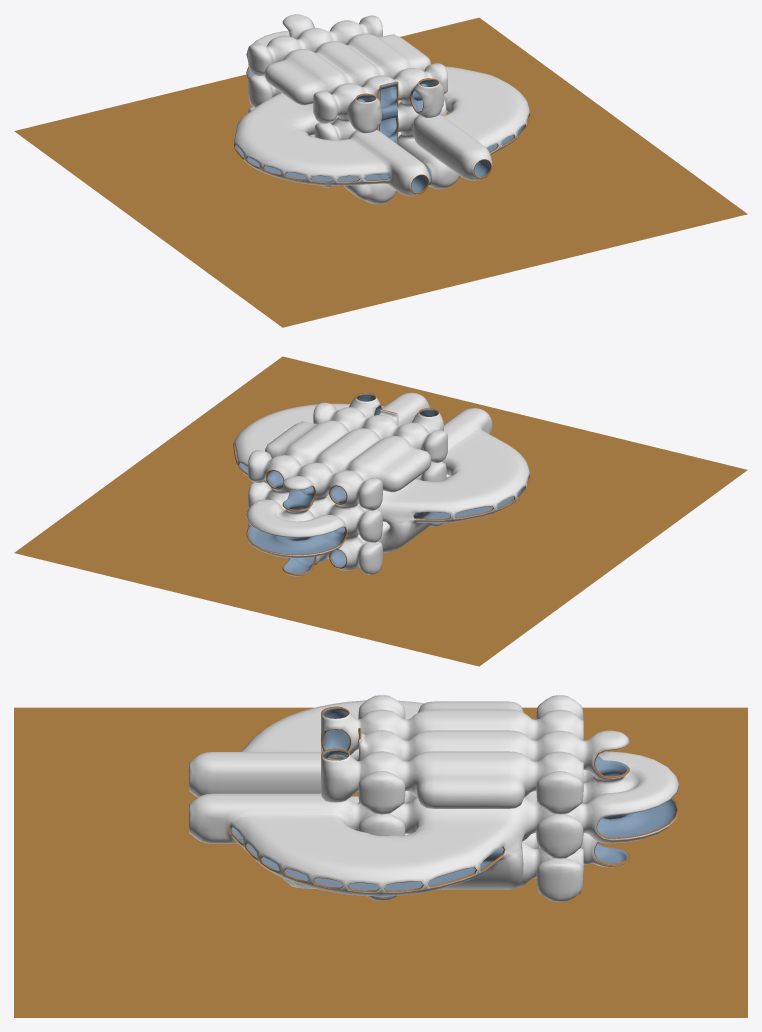
The model's file is spaceShip.glb.
3 views of the same model, one above another, from view 1: azimuth 30°, elevation 25°; view 2: azimuth 150°, elevation 25°; view 3: azimuth 270°, elevation 25° (orthographic). The views are drawn at different scales.
Parts seen in each view (by area): view 1: Plane, spaceship; view 2: Plane, spaceship; view 3: Plane, spaceship.
Boxes of the visible parts, x1=… form: Plane: x1=14, y1=17, x2=747, y2=327; spaceship: x1=233, y1=14, x2=530, y2=204; Plane: x1=14, y1=356, x2=747, y2=666; spaceship: x1=233, y1=392, x2=530, y2=576; Plane: x1=14, y1=707, x2=747, y2=1017; spaceship: x1=189, y1=695, x2=678, y2=902.
Size of the model in its own units: 40 by 7.76 by 40.
